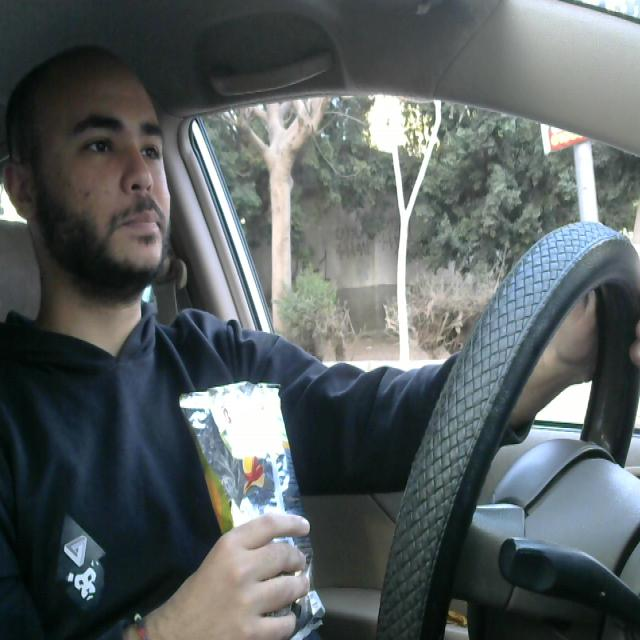eating: (177, 378, 333, 640)
